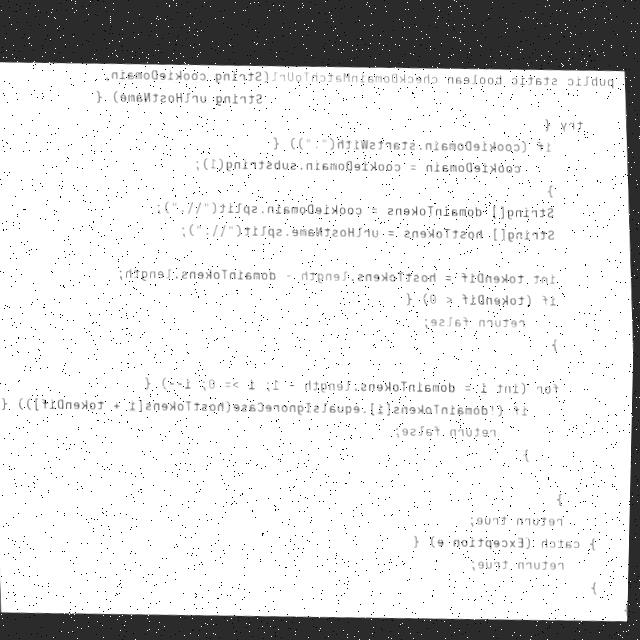code_screen: (0, 64, 633, 618)
